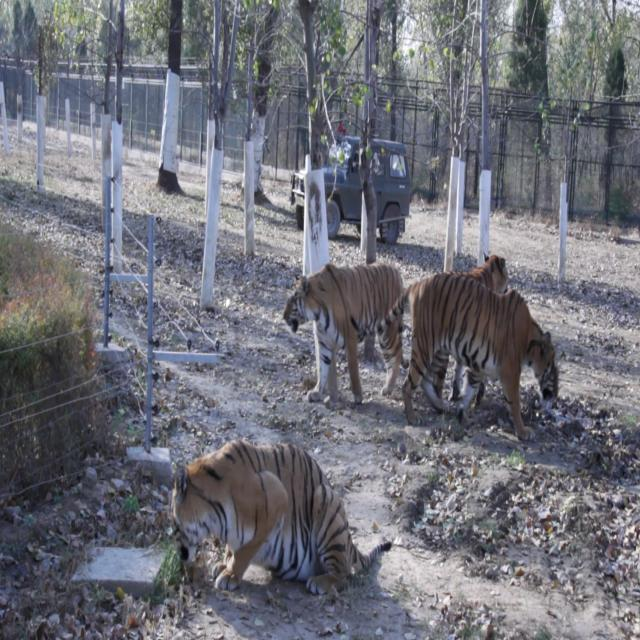Tiger: (348, 273, 572, 445), (164, 436, 403, 595), (282, 257, 405, 395), (467, 253, 518, 302)
